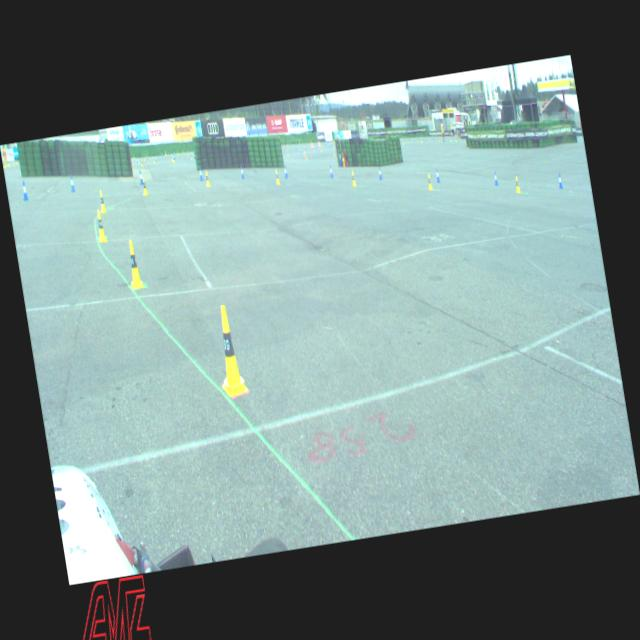blue_cone: (21, 181, 29, 201), (68, 175, 76, 193), (556, 173, 562, 189), (492, 171, 498, 186), (138, 170, 144, 184), (198, 168, 204, 180), (240, 166, 245, 179), (329, 166, 334, 178), (378, 168, 382, 180), (436, 170, 440, 182), (284, 166, 288, 178)
yellow_cone: (210, 304, 249, 398), (124, 239, 144, 290), (94, 209, 107, 242), (98, 189, 106, 213), (141, 178, 148, 195), (514, 176, 520, 193), (427, 173, 433, 190), (204, 171, 210, 187), (351, 171, 356, 187), (275, 170, 280, 184)
